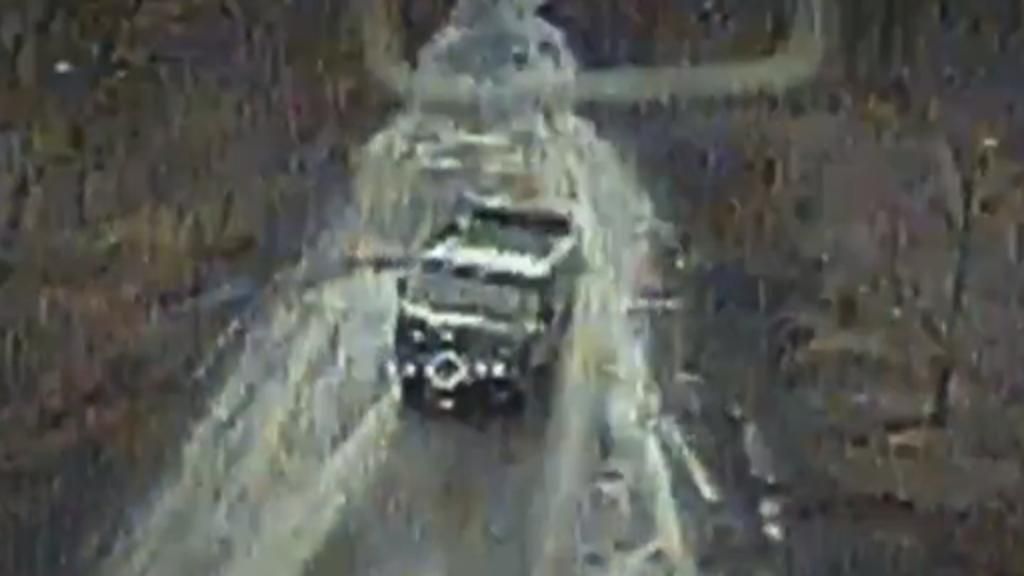CAR: (382, 197, 578, 422)
